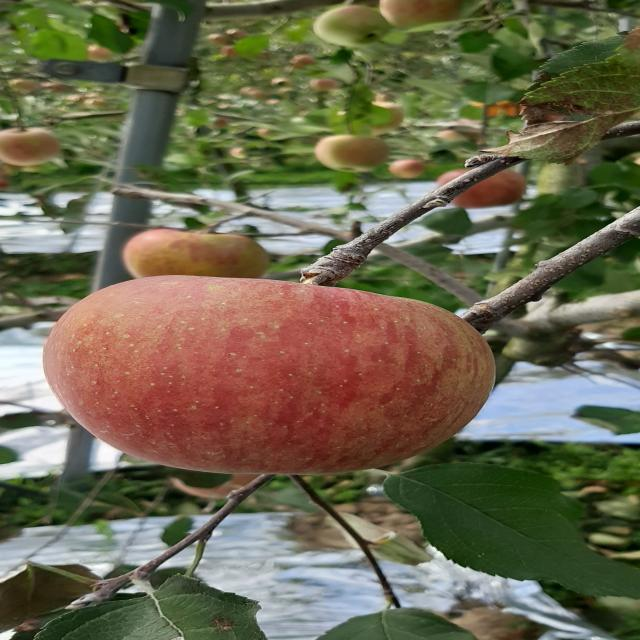fresh: (29, 267, 507, 481)
